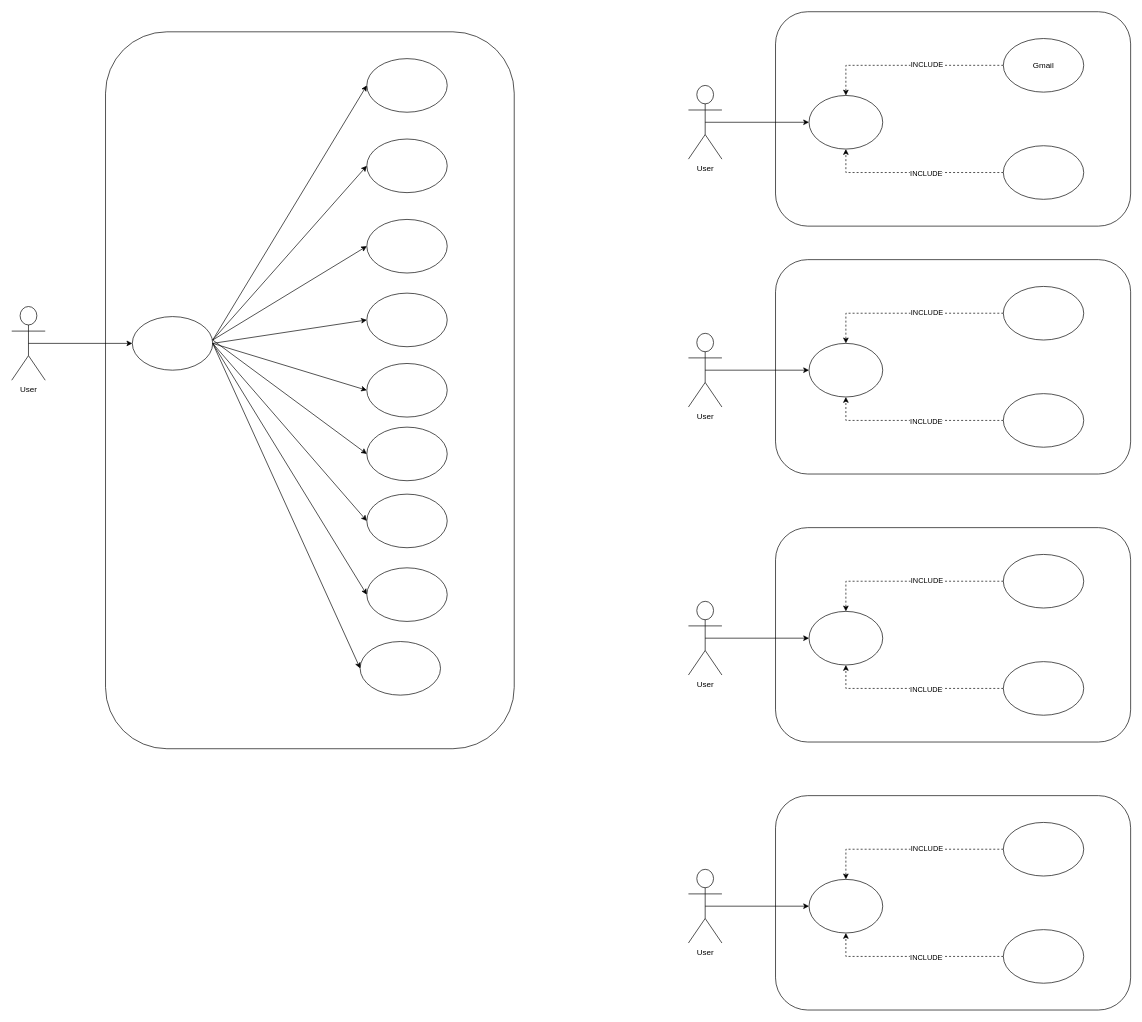
Image size: 1142x1022. Some labels were removed from this diagram. The shapes that lost their labels are listed below. From the top down, each one's box as (x1, y1, x2, y2) in pixels, then its label:
(808, 95, 883, 149): Forgot password
(132, 316, 213, 370): Login
